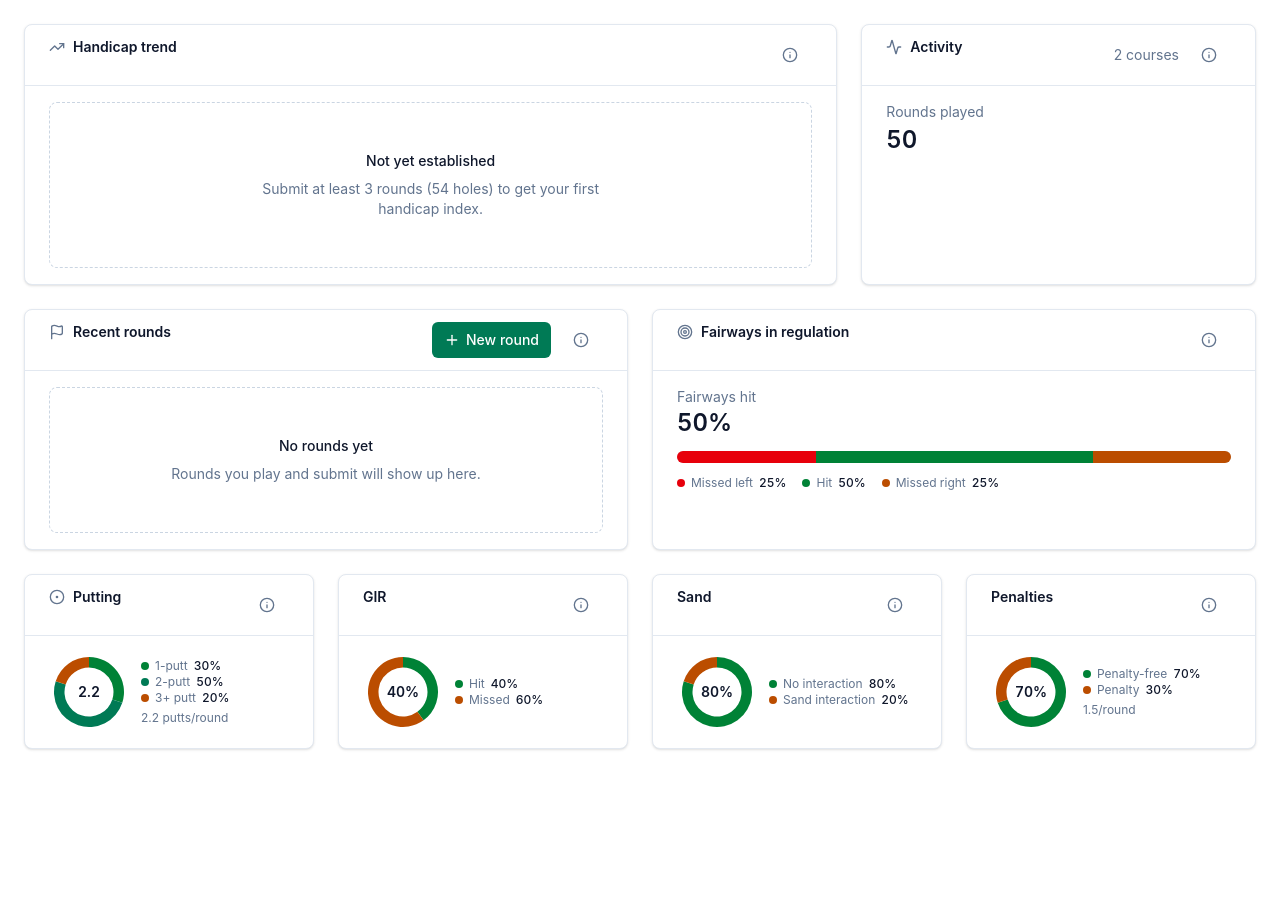
Test case: PlayerDashboardPage › stats-derived widgets (Activity/FIR/Putting/GIR/Sand/Penalties, ghs#178) › ghs#209: GIR's info tooltip states the real number of rounds the stat is based on, not the lifetime roundsCount
The image size is (1280, 900).
Hover over the button named "About GIR" at x=581, y=605, box [559,587,603,623]
Wait 400 ms
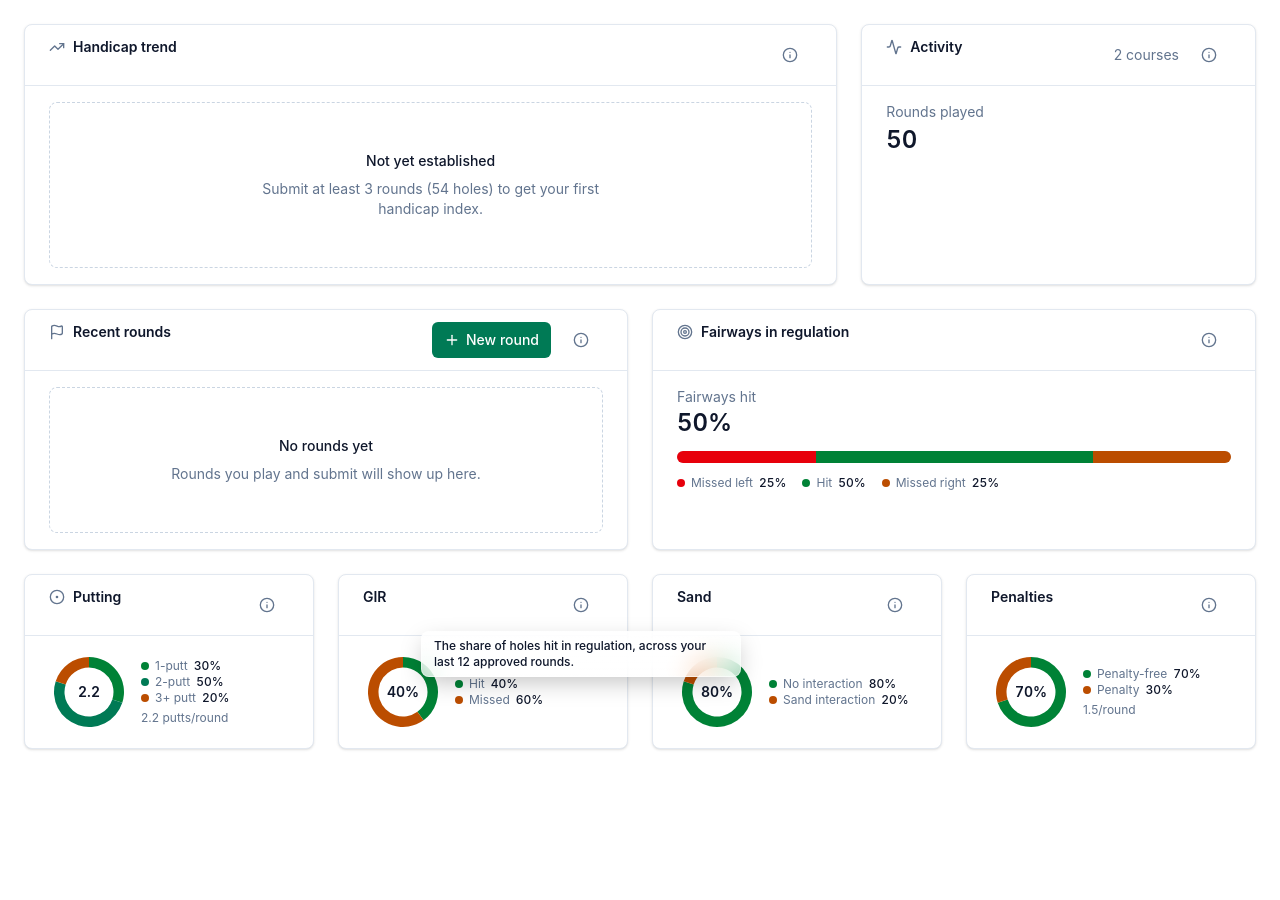
Check: the tooltip shows "your last 12 approved rounds", box [434,638,706,669]
